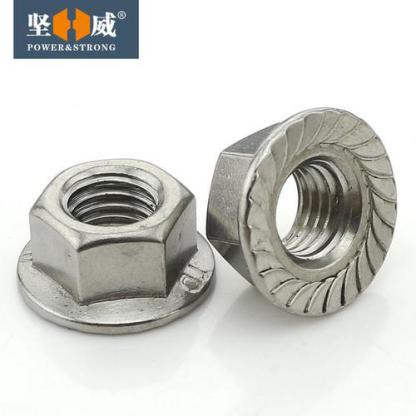FOD: (204, 106, 399, 319), (16, 154, 214, 338)
